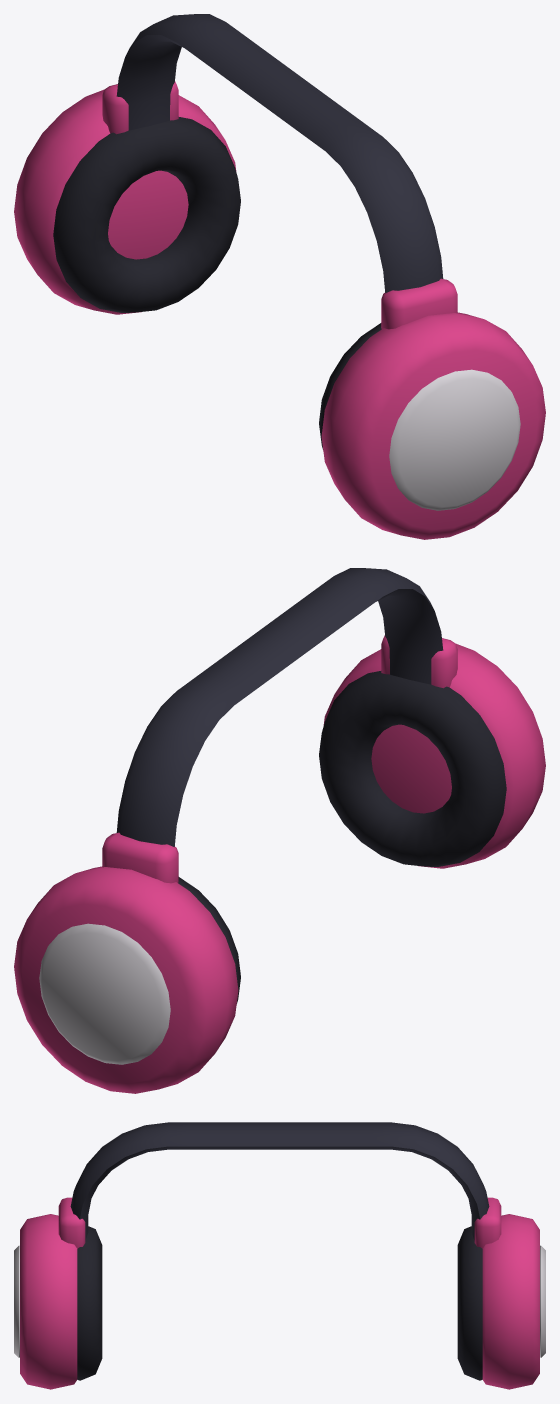
The model's file is hat_headphones.glb.
3 views of the same model, one above another, from view 1: azimuth 30°, elevation 25°; view 2: azimuth 150°, elevation 25°; view 3: azimuth 270°, elevation 25° (orthographic). The views are drawn at different scales.
Visible parts, largest first — view 1: hat_headphones; view 2: hat_headphones; view 3: hat_headphones.
Part boxes in pixels (<box>): hat_headphones: <box>14,14,545,539</box>; hat_headphones: <box>14,568,545,1093</box>; hat_headphones: <box>14,1122,545,1389</box>.
Bounding box in the file's own units: 0.24 × 0.382 × 0.724.
